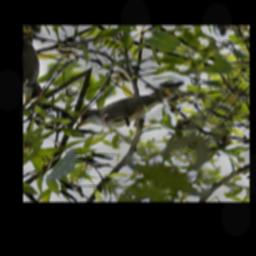Cuckoo: (70, 52, 224, 167)
